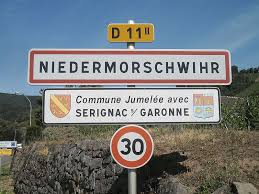Speed_limit_30km: (109, 124, 156, 169)
